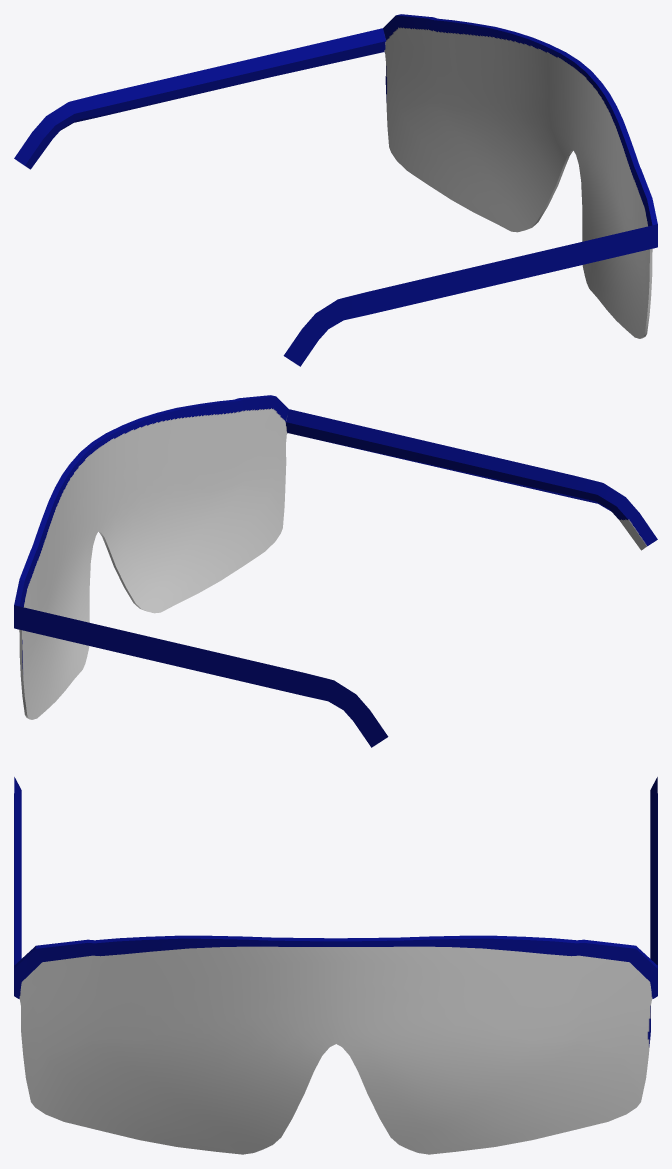
Rendered from Occhiali.fbx.
3 renders of one model, top to bottom at view 1: azimuth 30°, elevation 25°; view 2: azimuth 150°, elevation 25°; view 3: azimuth 270°, elevation 25°, orthographic. The views are drawn at different scales.
Visible parts, largest first — view 1: OcchialiBaked.001; view 2: OcchialiBaked.001; view 3: OcchialiBaked.001.
Part boxes in pixels (x1,y1,x2,y2): OcchialiBaked.001: (14, 14, 657, 366); OcchialiBaked.001: (14, 395, 657, 747); OcchialiBaked.001: (14, 777, 657, 1154).
Bounding box in the file's own units: 16.19 × 6.89 × 17.56.
Materials: 1 (1 with a texture image).
